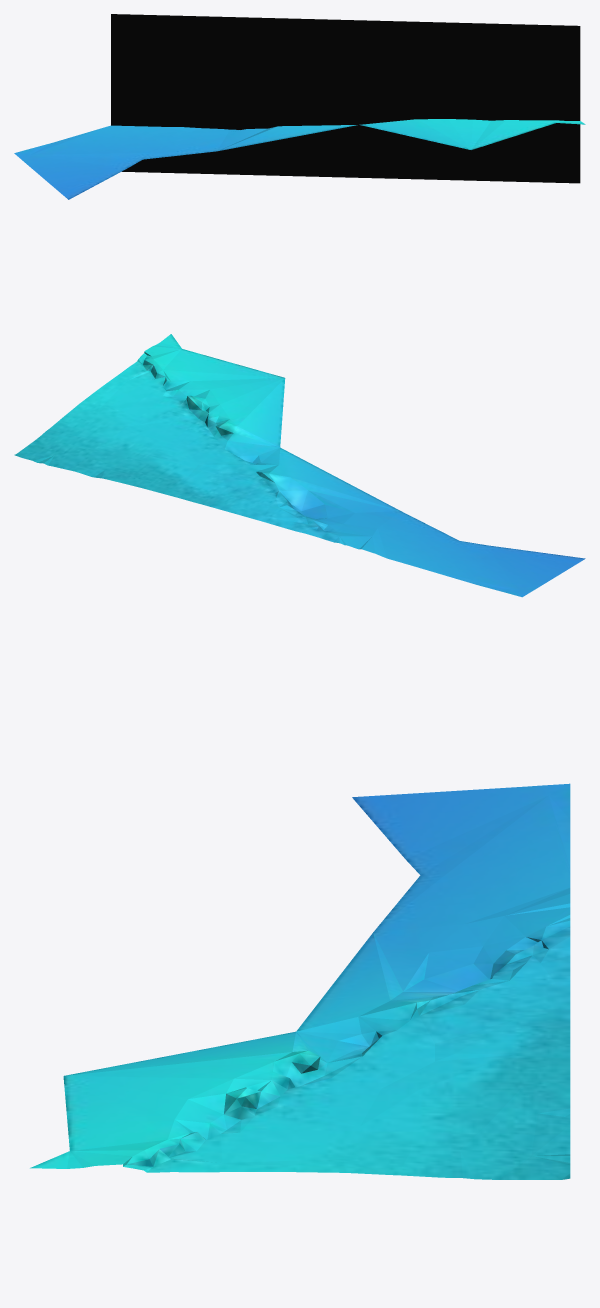
The picture shows the model from 3 angles, top to bottom: view 1: azimuth 30°, elevation 25°; view 2: azimuth 150°, elevation 25°; view 3: azimuth 270°, elevation 25°; orthographic projection. The views are drawn at different scales.
Bounding box in the file's own units: 26.11 × 9 × 14.
2 materials, 2 textured.
